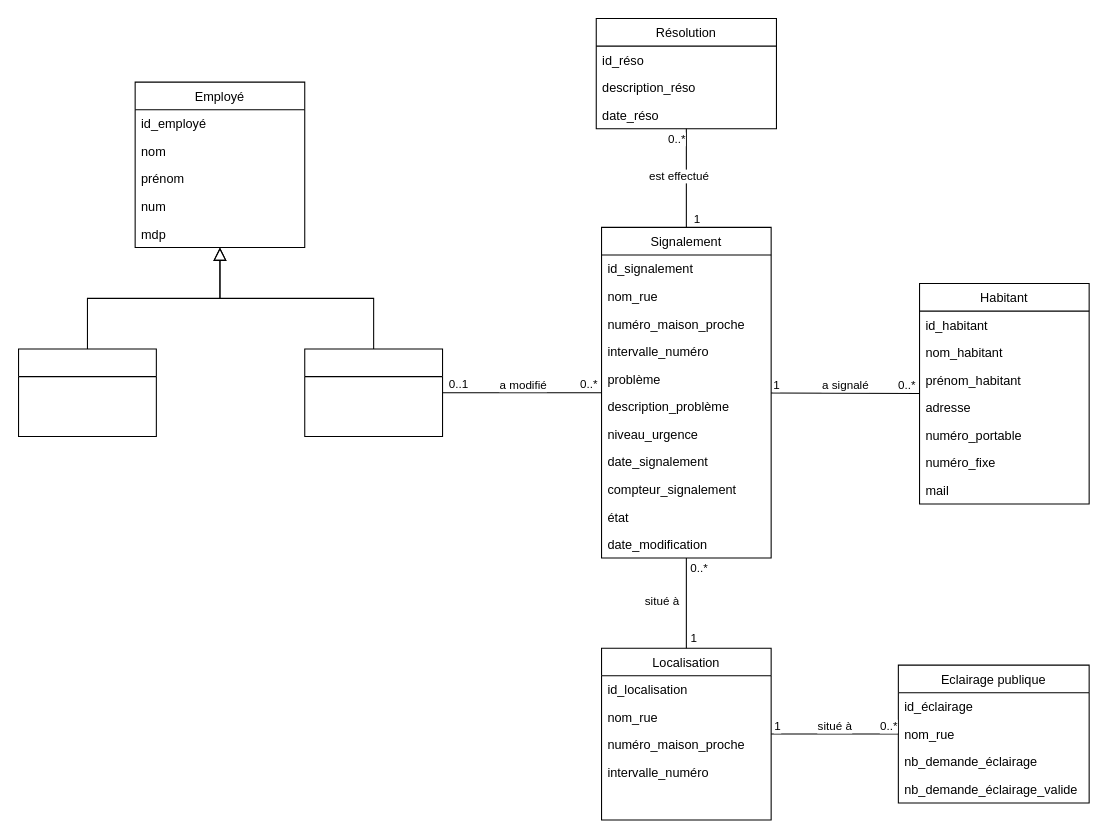
Some shapes in this 1108 by 838 pixel diagram are drawn without their labels. The centre of each missing label's shape, as x and y in pixels:
Agent: the point at 373,392
Responsable: the point at 86,392
